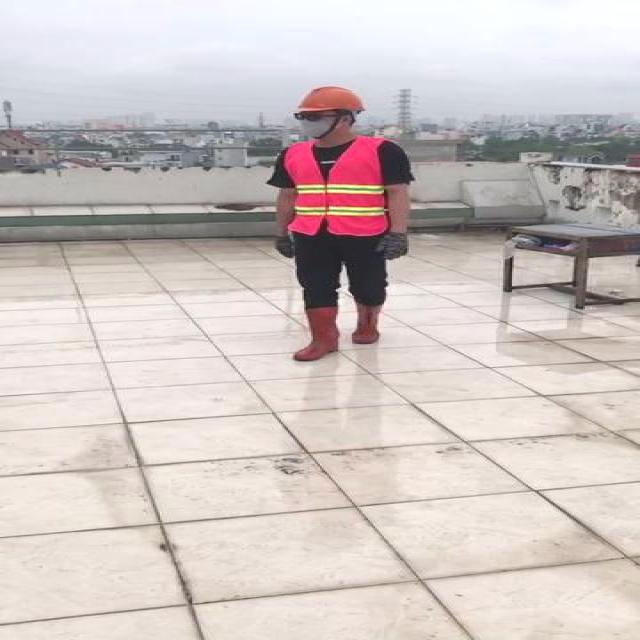boots: (295, 304, 343, 364), (350, 302, 384, 343)
face_mask: (292, 110, 334, 134)
glasses: (290, 109, 327, 124)
hand_glove: (375, 233, 411, 260), (272, 234, 297, 262)
head_helmet: (294, 85, 364, 114)
person: (268, 80, 424, 362)
vest: (282, 138, 388, 236)
